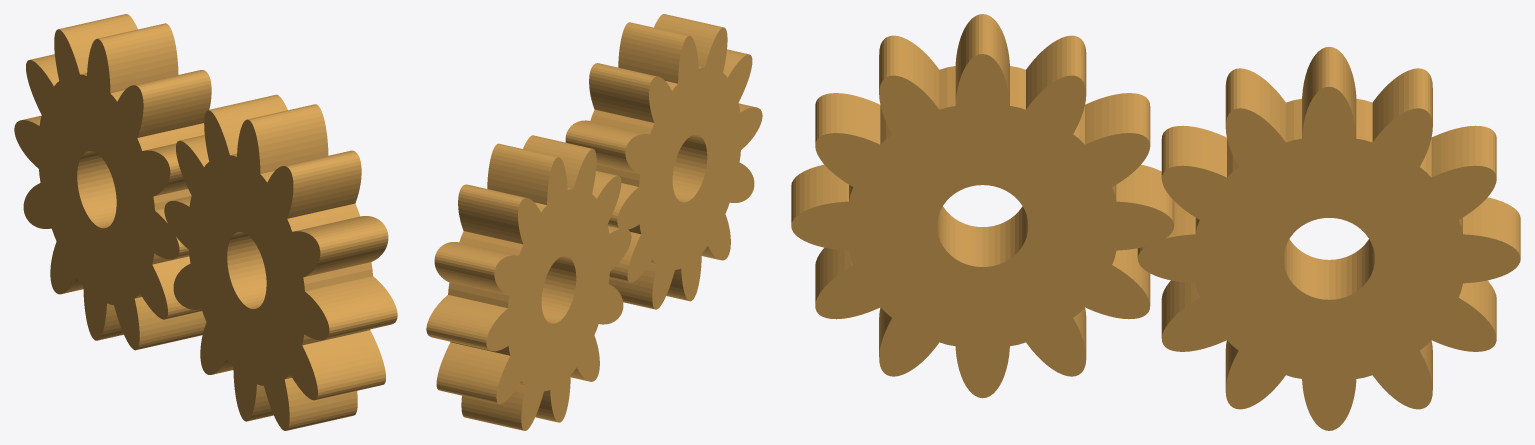
Rendered from engranaje.glb.
3 renders of one model, left to right at view 1: azimuth 30°, elevation 25°; view 2: azimuth 150°, elevation 25°; view 3: azimuth 270°, elevation 25°, orthographic. The views are drawn at different scales.
Parts seen in each view (by area): view 1: Mesh_Mesh_head_geo.001_lambert2SG.001; view 2: Mesh_Mesh_head_geo.001_lambert2SG.001; view 3: Mesh_Mesh_head_geo.001_lambert2SG.001.
Boxes of the visible parts, bbox=[...] form: Mesh_Mesh_head_geo.001_lambert2SG.001: bbox=[14, 14, 397, 430]; Mesh_Mesh_head_geo.001_lambert2SG.001: bbox=[426, 14, 762, 430]; Mesh_Mesh_head_geo.001_lambert2SG.001: bbox=[791, 14, 1520, 430].
Bounding box in the file's own units: 0.0054 × 0.0231 × 0.04.
